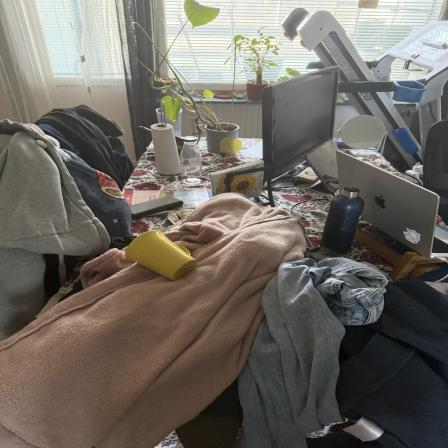blue_bottle: (323, 188, 366, 258)
phone: (123, 197, 185, 216)
yellow_cup: (120, 225, 202, 280)
